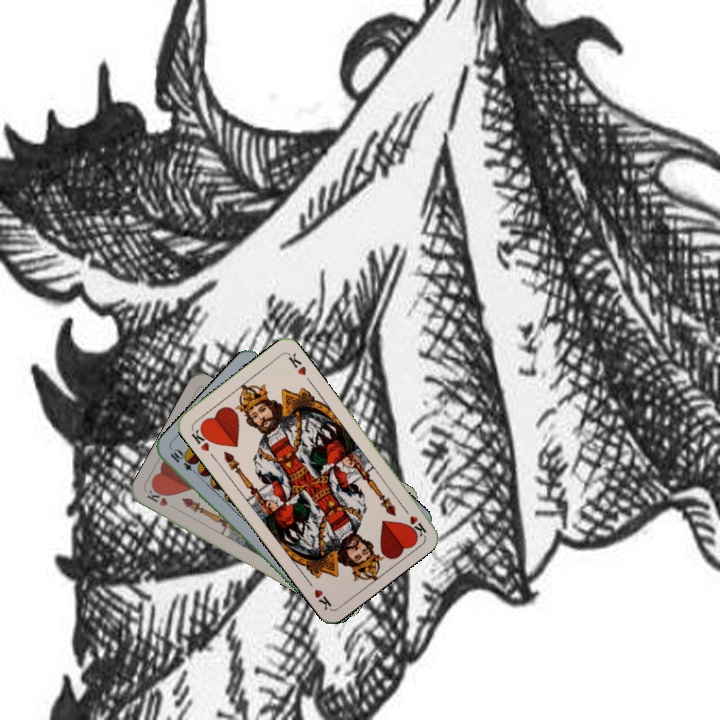E10: (166, 446, 202, 478)
HK: (398, 502, 429, 539), (187, 423, 215, 454), (142, 486, 171, 509)
